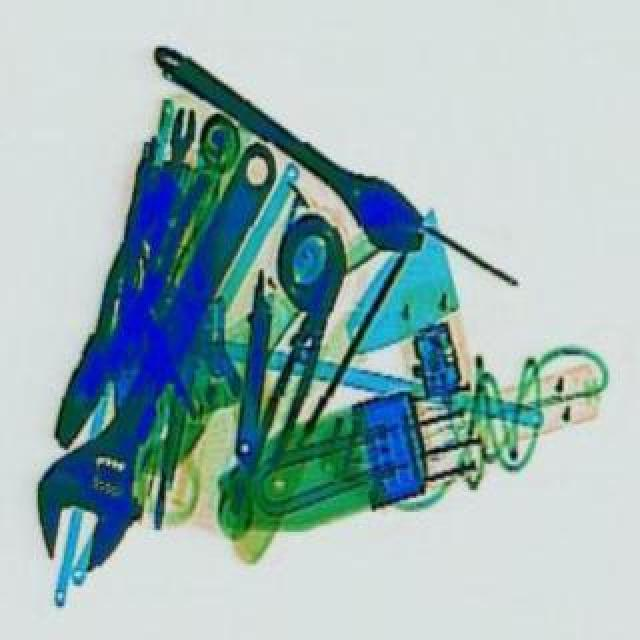scissors: (10, 122, 318, 578), (136, 20, 450, 264), (148, 100, 206, 226)
wrench: (20, 148, 216, 452), (242, 282, 346, 482)
